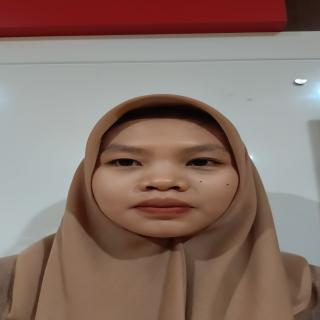Netral: (77, 112, 260, 243)
